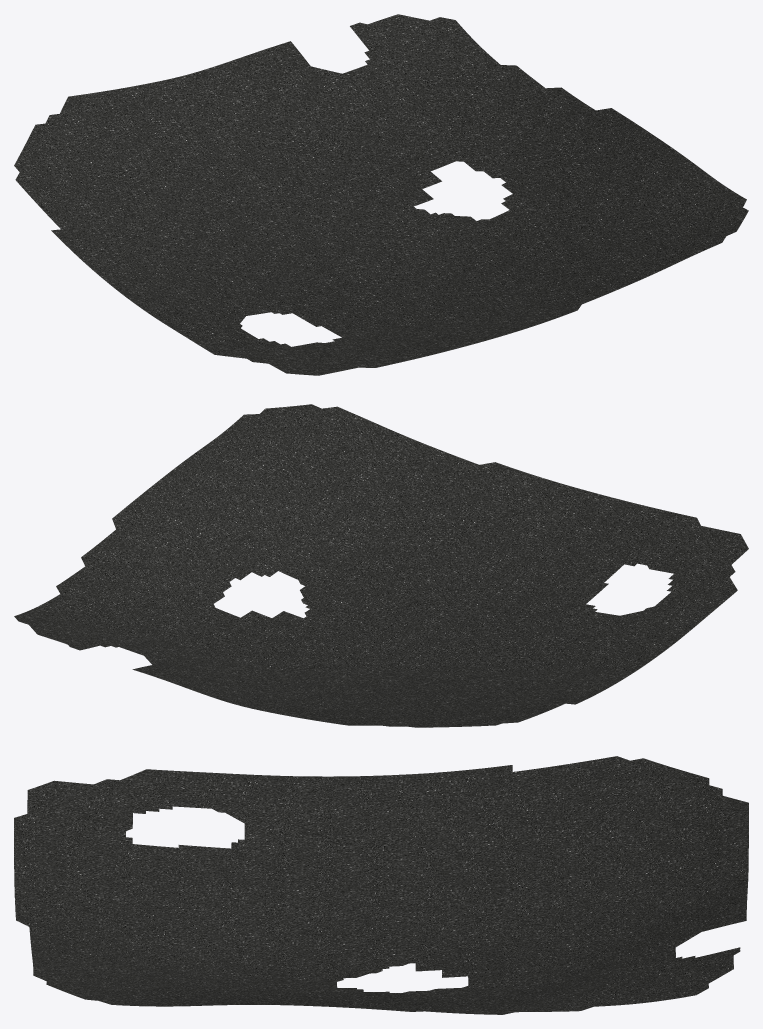
Rendered from cityLevel3.obj.
3 views of the same model, one above another, from view 1: azimuth 30°, elevation 25°; view 2: azimuth 150°, elevation 25°; view 3: azimuth 270°, elevation 25° (orthographic). The views are drawn at different scales.
Parts seen in each view (by area): view 1: Plane.005_Plane.003; view 2: Plane.005_Plane.003; view 3: Plane.005_Plane.003.
Part boxes in pixels (x1=…): Plane.005_Plane.003: x1=14, y1=14, x2=748, y2=375; Plane.005_Plane.003: x1=14, y1=404, x2=748, y2=727; Plane.005_Plane.003: x1=14, y1=756, x2=748, y2=1014.
Bounding box in the file's own units: 78.59 × 9.21 × 86.76.
